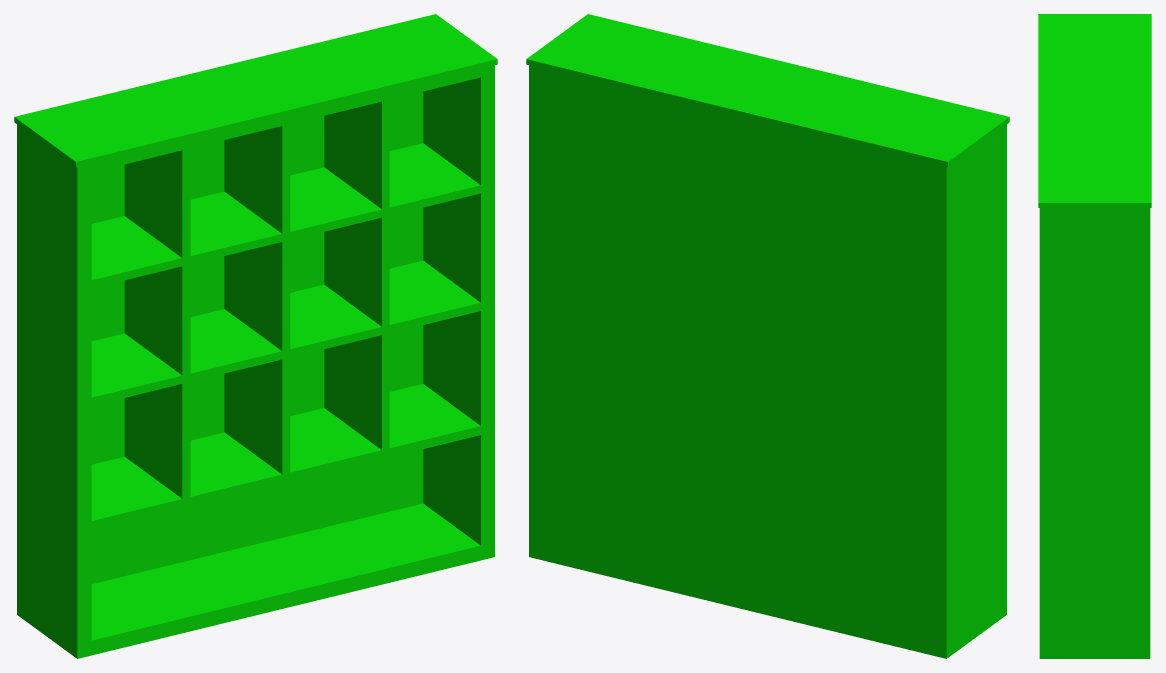
File: Setofileshelf.fbx
The picture shows the model from 3 angles, left to right: view 1: azimuth 30°, elevation 25°; view 2: azimuth 150°, elevation 25°; view 3: azimuth 270°, elevation 25°; orthographic projection. The views are drawn at different scales.
Parts seen in each view (by area): view 1: fileshelf; view 2: fileshelf; view 3: fileshelf.
Part boxes in pixels (bbox=[...]): fileshelf: bbox=[14, 14, 497, 658]; fileshelf: bbox=[526, 14, 1009, 658]; fileshelf: bbox=[1038, 14, 1151, 658].
Size of the model in its own units: 191 by 216 by 48.47.
